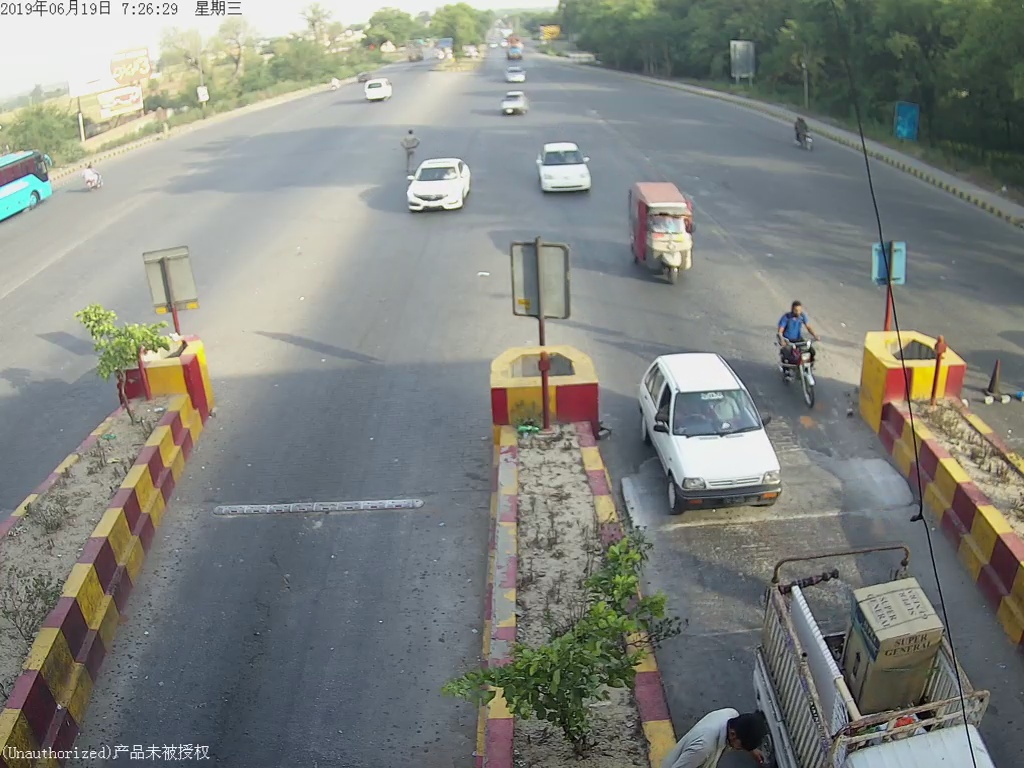Cat-1: (641, 355, 779, 512), (529, 138, 596, 198), (409, 155, 471, 216)
